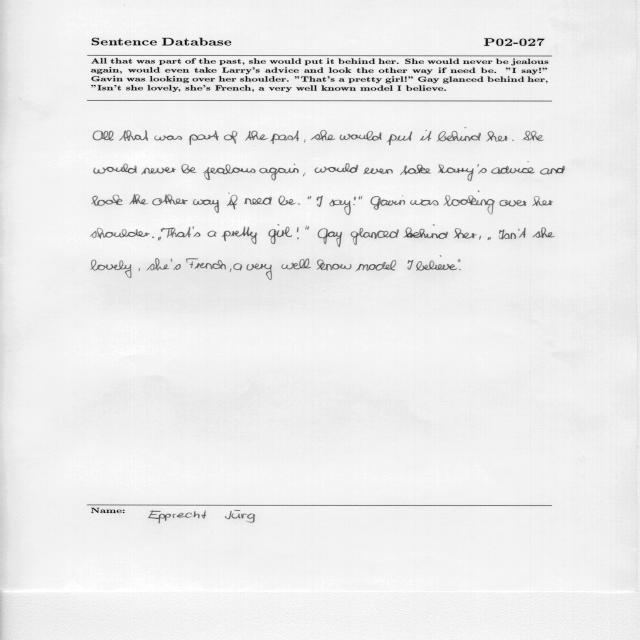word: (444, 191, 495, 214), (203, 164, 256, 180), (438, 164, 487, 181), (350, 228, 399, 245), (91, 260, 131, 278), (416, 255, 460, 271), (259, 164, 299, 181), (403, 224, 448, 239), (91, 228, 150, 239), (436, 128, 481, 142), (222, 227, 257, 244), (371, 195, 405, 210), (186, 258, 226, 270), (268, 225, 292, 244), (318, 229, 342, 248), (189, 130, 219, 145), (315, 163, 359, 173), (356, 260, 396, 271), (94, 164, 137, 174), (340, 131, 382, 141), (270, 130, 299, 144), (247, 264, 272, 280), (152, 195, 188, 206), (317, 260, 352, 271), (193, 199, 219, 213), (491, 166, 535, 174), (387, 132, 412, 146), (92, 195, 123, 206), (329, 200, 351, 215), (161, 227, 191, 238), (281, 259, 311, 270), (119, 130, 148, 141), (401, 165, 432, 175), (147, 258, 170, 271), (499, 228, 526, 239), (141, 167, 176, 175), (454, 228, 477, 239), (311, 130, 336, 140), (486, 131, 508, 142), (533, 227, 555, 238), (245, 131, 268, 141), (540, 166, 565, 175), (244, 197, 272, 205), (93, 131, 114, 141), (523, 131, 544, 141), (363, 168, 393, 175), (532, 196, 553, 206), (410, 199, 439, 206), (130, 194, 149, 204), (227, 193, 237, 210), (224, 131, 237, 144), (278, 196, 296, 205), (500, 200, 527, 206), (182, 164, 197, 174), (155, 136, 183, 141), (420, 130, 431, 141), (171, 259, 181, 270), (316, 195, 323, 207), (193, 226, 200, 237), (233, 264, 243, 271), (408, 260, 414, 270), (208, 231, 217, 237), (353, 197, 356, 205), (297, 227, 299, 239), (305, 226, 309, 230), (359, 196, 362, 200), (158, 237, 161, 241), (487, 237, 491, 240), (308, 196, 311, 199), (304, 139, 306, 143), (479, 236, 481, 240), (230, 269, 232, 273), (303, 174, 305, 177), (298, 203, 300, 205), (152, 236, 154, 238), (139, 268, 140, 271), (512, 140, 514, 141), (459, 269, 461, 270)
